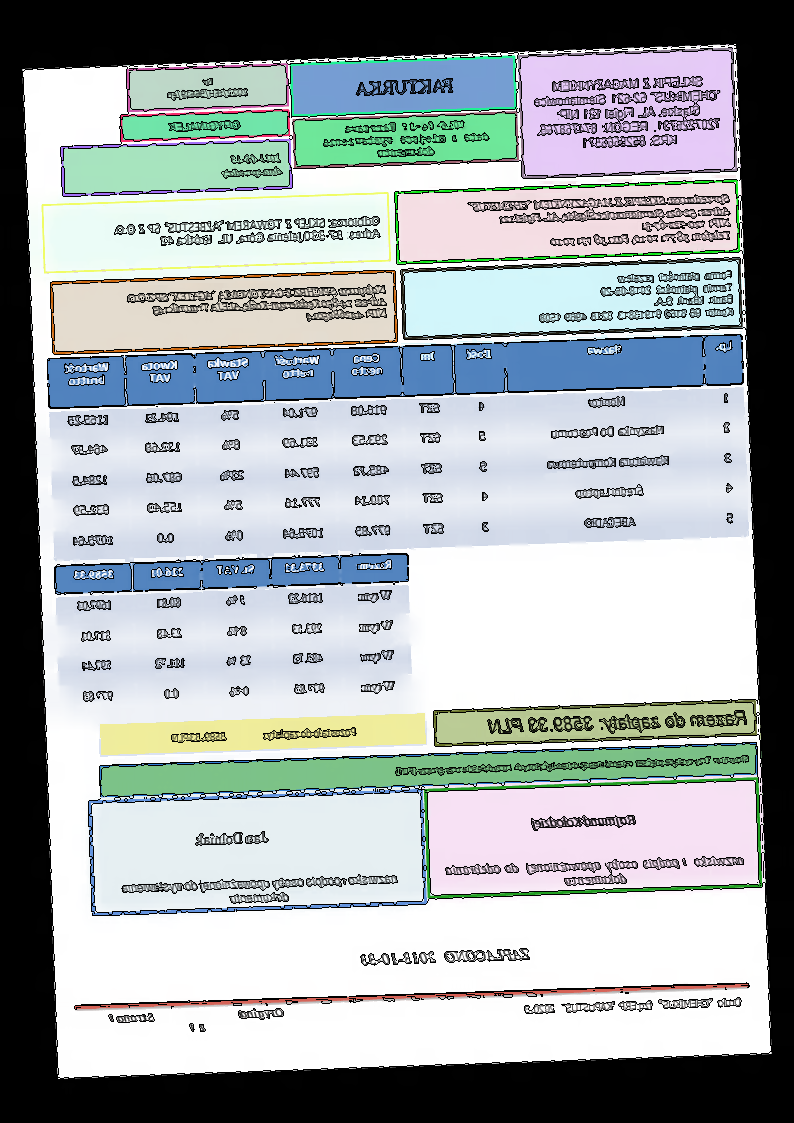Table: (46, 333, 751, 562), (53, 551, 415, 718)
TextBox: (464, 190, 735, 252), (531, 72, 725, 153), (124, 281, 389, 330), (444, 853, 747, 892), (537, 267, 737, 325), (121, 870, 400, 909), (111, 213, 383, 250), (394, 752, 753, 778), (485, 705, 750, 737), (320, 117, 492, 162), (107, 1006, 286, 1036), (523, 994, 743, 1016), (360, 945, 531, 968), (171, 725, 358, 745), (353, 75, 458, 99), (165, 75, 250, 103), (530, 812, 639, 832), (220, 151, 285, 180), (192, 828, 271, 849), (166, 116, 243, 134)
